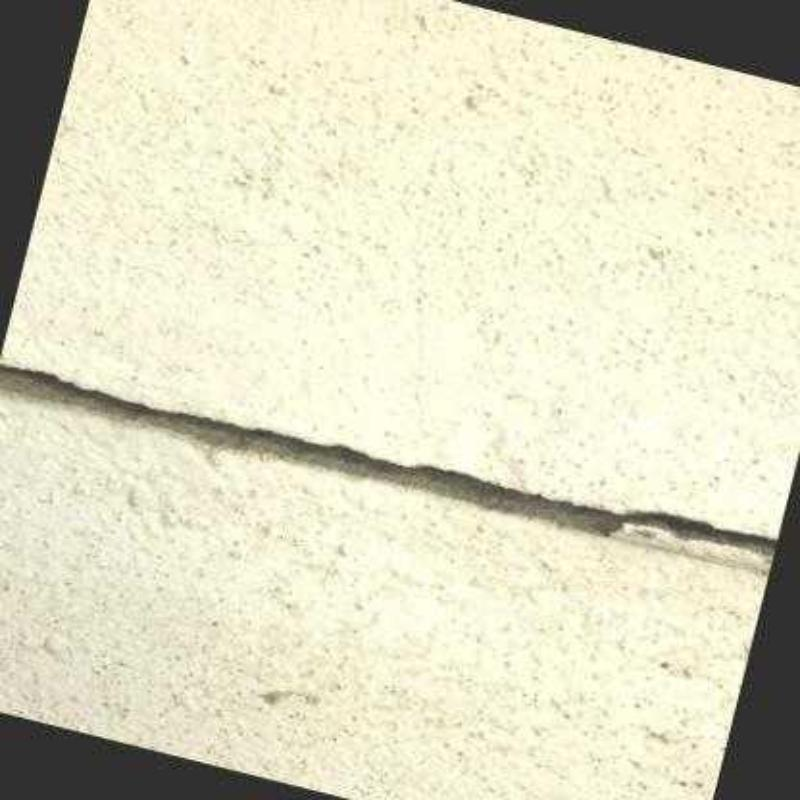pothole: (0, 365, 777, 557)
